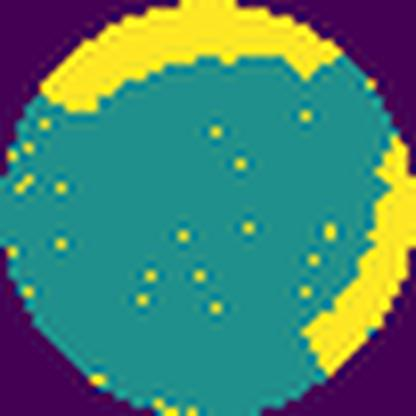Edge-Loc: (39, 0, 344, 116), (300, 138, 415, 380)
